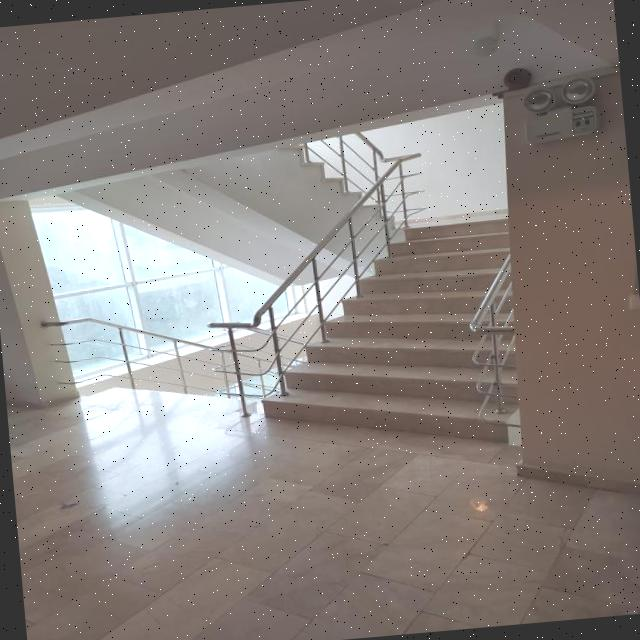stairs: (245, 215, 528, 464)
